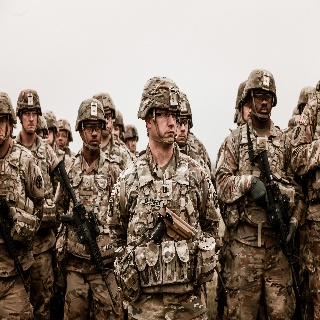pistol: (151, 204, 194, 247)
rifle: (56, 160, 129, 317), (259, 149, 303, 301), (1, 194, 32, 293)
